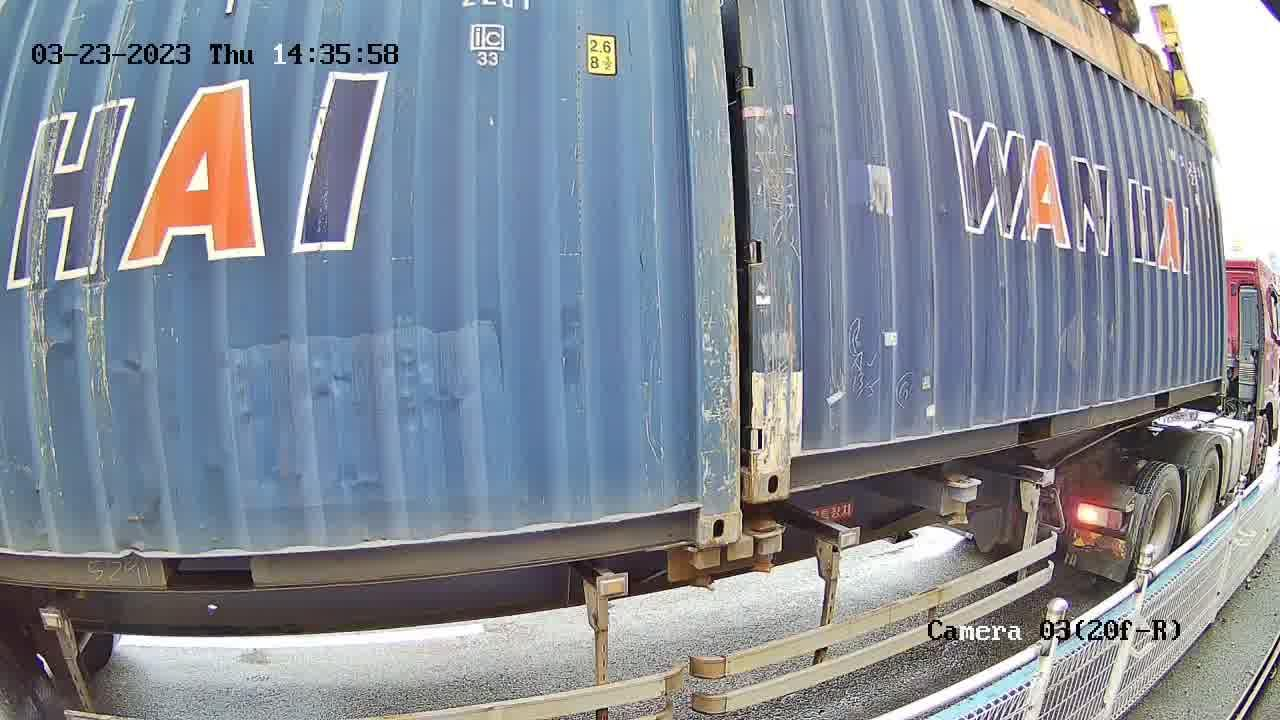Cone: (749, 520, 782, 572), (688, 543, 724, 590)
Hole_L: (753, 428, 820, 503)
Hole_R: (662, 479, 740, 545)
Tire: (1140, 467, 1183, 576), (1191, 449, 1222, 542)
